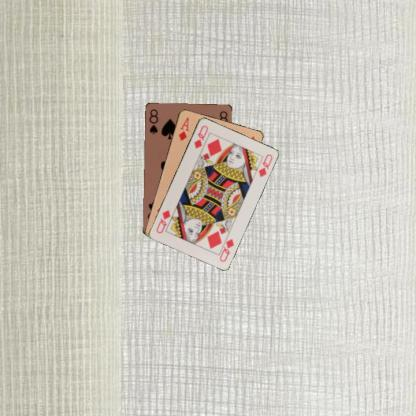8s: (146, 107, 160, 136)
Ad: (176, 115, 190, 142)
Qd: (216, 232, 235, 263), (191, 122, 209, 150)
